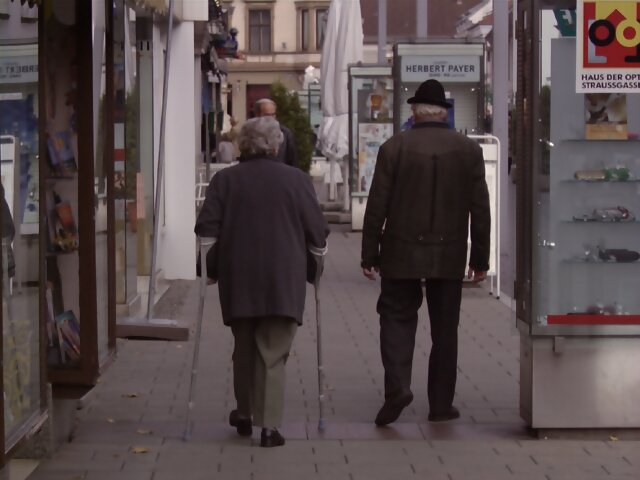person: (365, 78, 494, 435), (212, 115, 312, 442)
